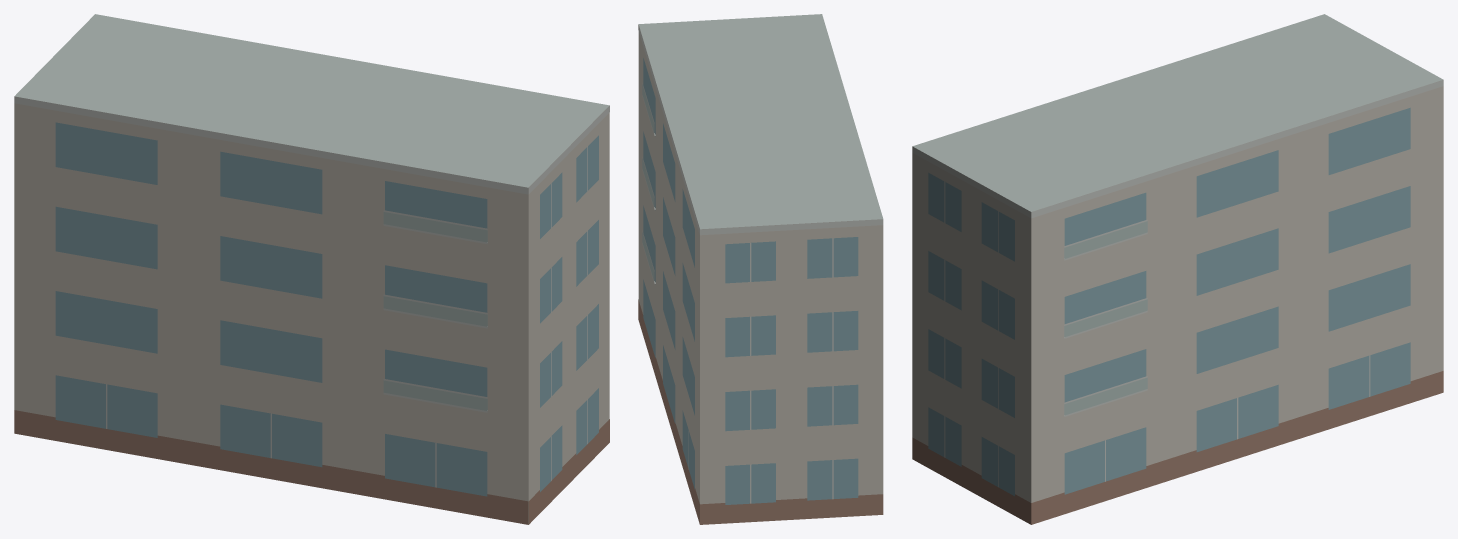
The model's file is survey-upis-32805767.glb.
3 renders of one model, left to right at view 1: azimuth 30°, elevation 25°; view 2: azimuth 150°, elevation 25°; view 3: azimuth 270°, elevation 25°, orthographic. The views are drawn at different scales.
Parts seen in each view (by area): view 1: survey-upis-32805767.tmp; view 2: survey-upis-32805767.tmp; view 3: survey-upis-32805767.tmp.
Part boxes in pixels (x1,y1,x2,y2): survey-upis-32805767.tmp: [14, 14, 609, 524]; survey-upis-32805767.tmp: [638, 14, 883, 524]; survey-upis-32805767.tmp: [912, 14, 1443, 524].
Size of the model in its own units: 16.3 by 12 by 18.48.
